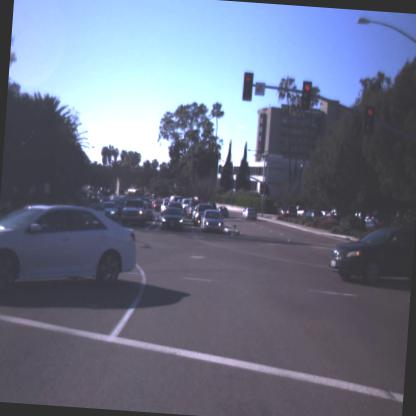trafficlight: (298, 74, 318, 119), (240, 70, 260, 104)
